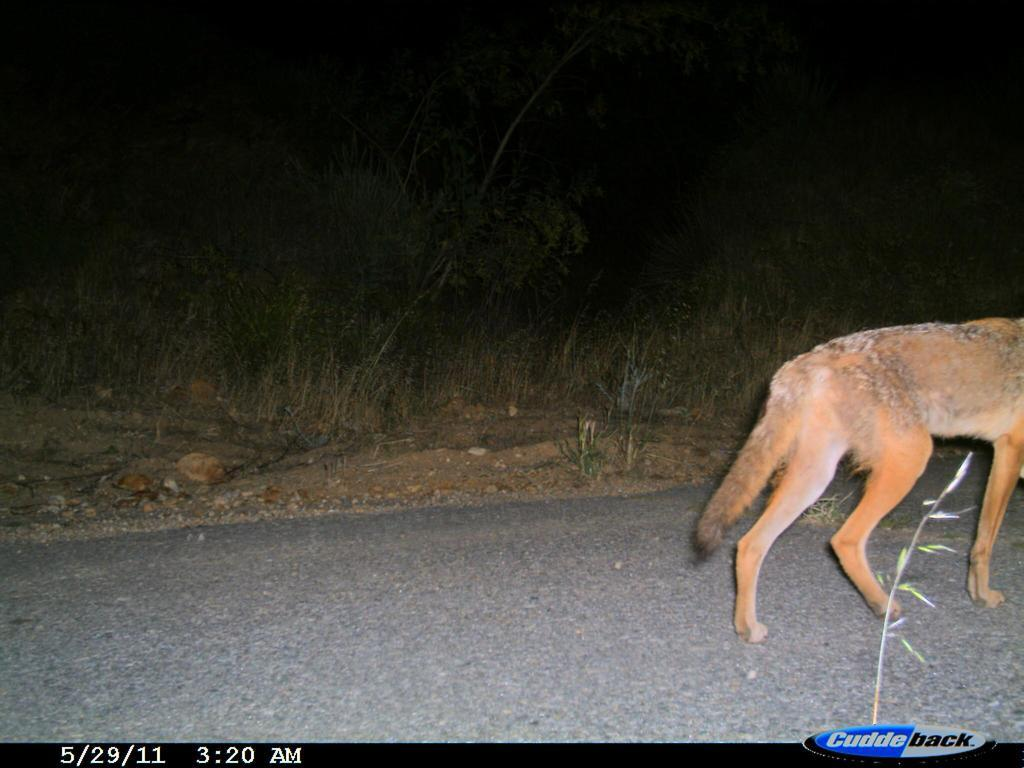coyote: (689, 306, 1023, 649)
